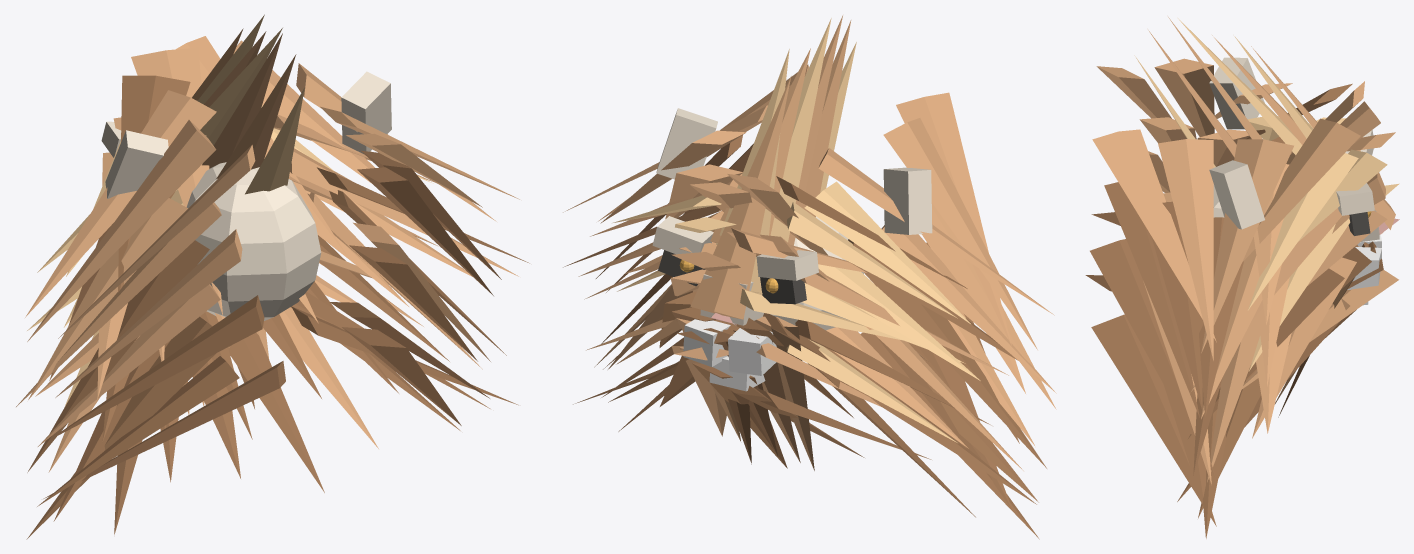
The model's file is lion_bust.glb.
3 views of the same model, side by side, from view 1: azimuth 30°, elevation 25°; view 2: azimuth 150°, elevation 25°; view 3: azimuth 270°, elevation 25° (orthographic). The views are drawn at different scales.
Visible parts, largest first — view 1: LionBust; view 2: LionBust; view 3: LionBust.
Part boxes in pixels (bbox=[...]): LionBust: bbox=[16, 14, 529, 539]; LionBust: bbox=[563, 15, 1056, 539]; LionBust: bbox=[1085, 17, 1399, 538].
Bounding box in the file's own units: 1.62 × 1.44 × 0.9458.
